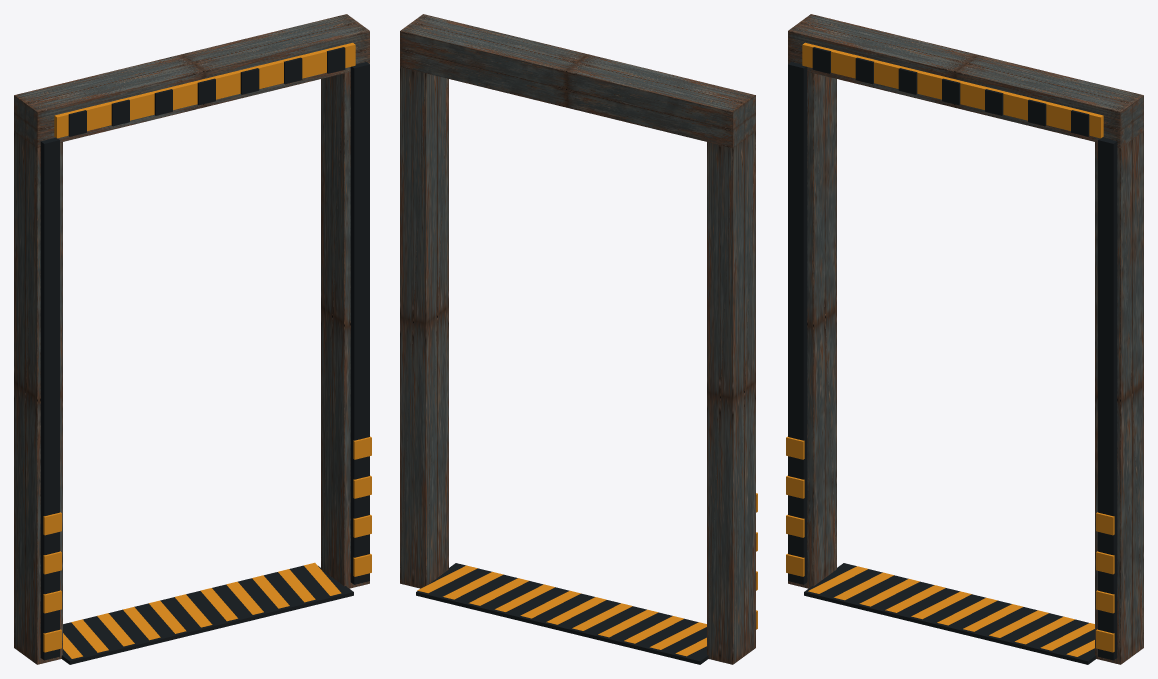
File: ServicePortal.obj
3 views of the same model, side by side, from view 1: azimuth 30°, elevation 25°; view 2: azimuth 150°, elevation 25°; view 3: azimuth 330°, elevation 25° (orthographic).
Visible parts, largest first — view 1: ServicePortal; view 2: ServicePortal; view 3: ServicePortal.
Part boxes in pixels (x1,y1,x2,y2): ServicePortal: [14, 14, 371, 664]; ServicePortal: [400, 14, 757, 664]; ServicePortal: [786, 14, 1143, 664].
Size of the model in its own units: 2.32 by 3.68 by 0.48.
Materials: 3 (1 with a texture image).
